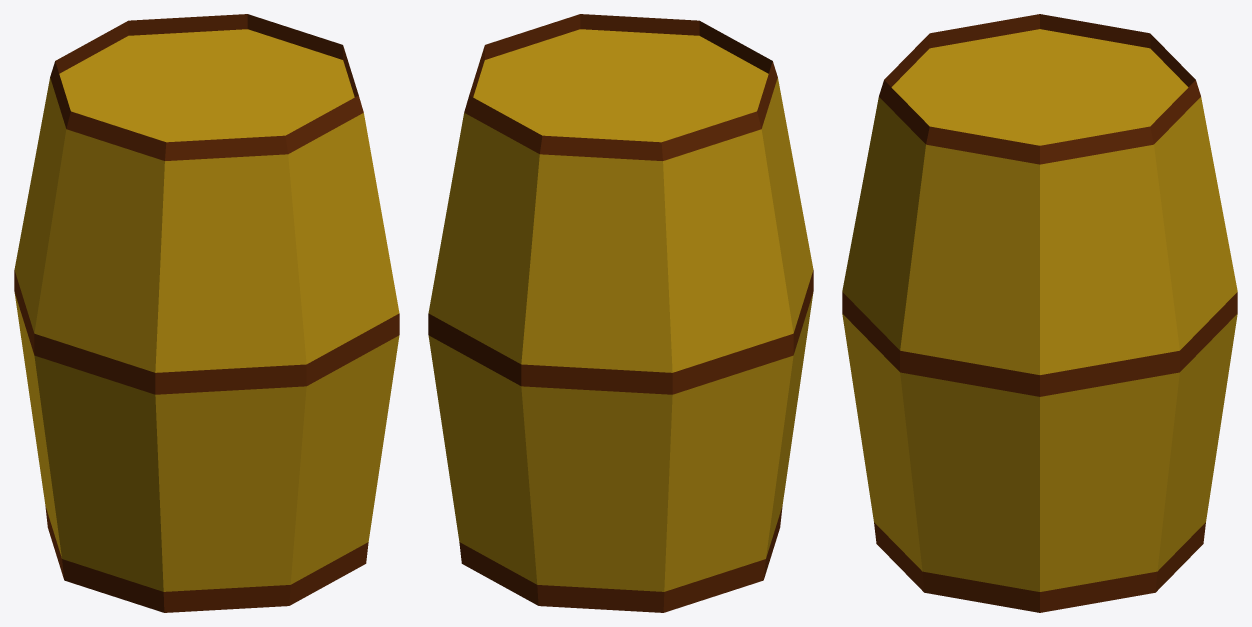
The model's file is barrel.fbx.
The picture shows the model from 3 angles, left to right: view 1: azimuth 30°, elevation 25°; view 2: azimuth 150°, elevation 25°; view 3: azimuth 270°, elevation 25°; orthographic projection.
Parts seen in each view (by area): view 1: Barrel; view 2: Barrel; view 3: Barrel.
Part boxes in pixels (<box>): Barrel: <box>14,14,399,612</box>; Barrel: <box>428,14,813,612</box>; Barrel: <box>842,14,1237,612</box>.
Size of the model in its own units: 242 by 313 by 242.
